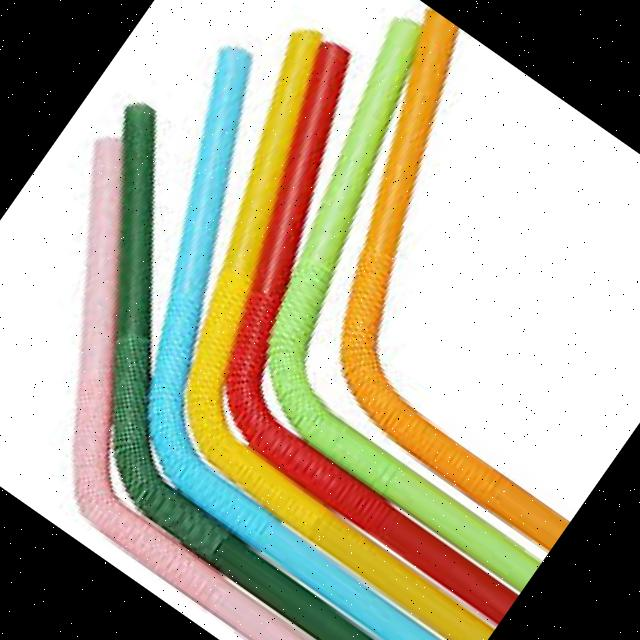plastic: (194, 1, 640, 567)
